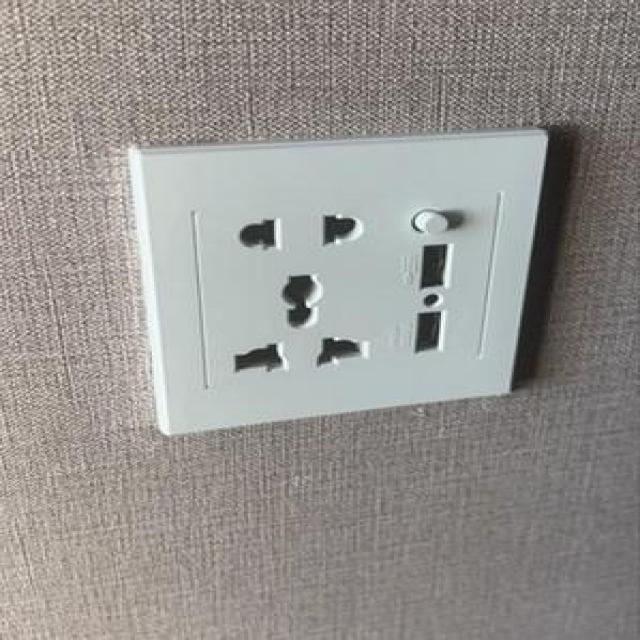hidden camera: (421, 292, 442, 310)
